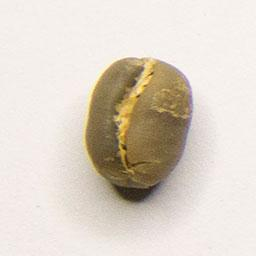peaberry: (81, 51, 197, 193)
